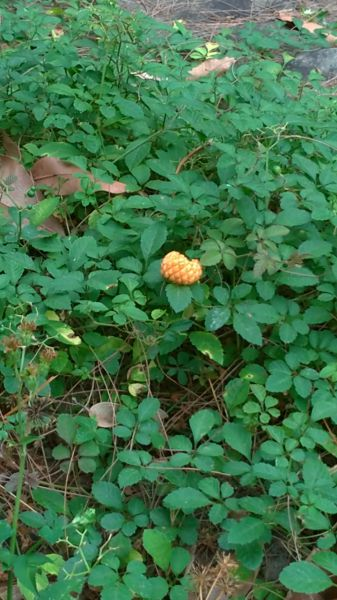eggs: (156, 250, 205, 292)
